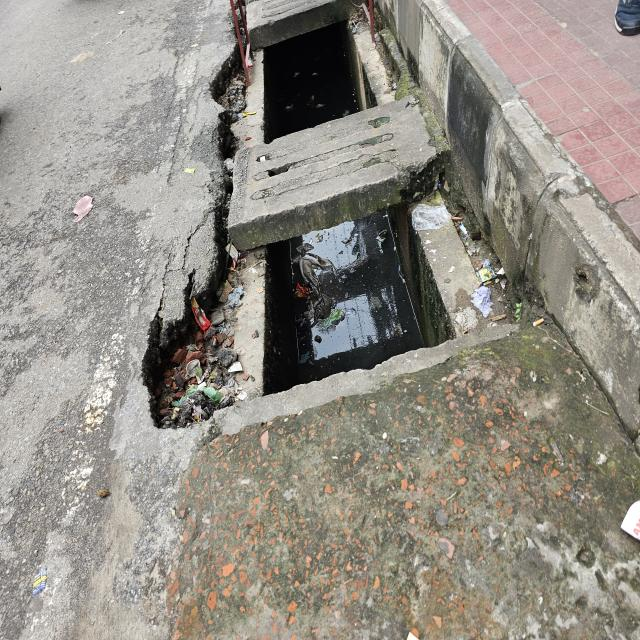drain_inlet: (266, 195, 453, 420), (264, 25, 380, 144)
